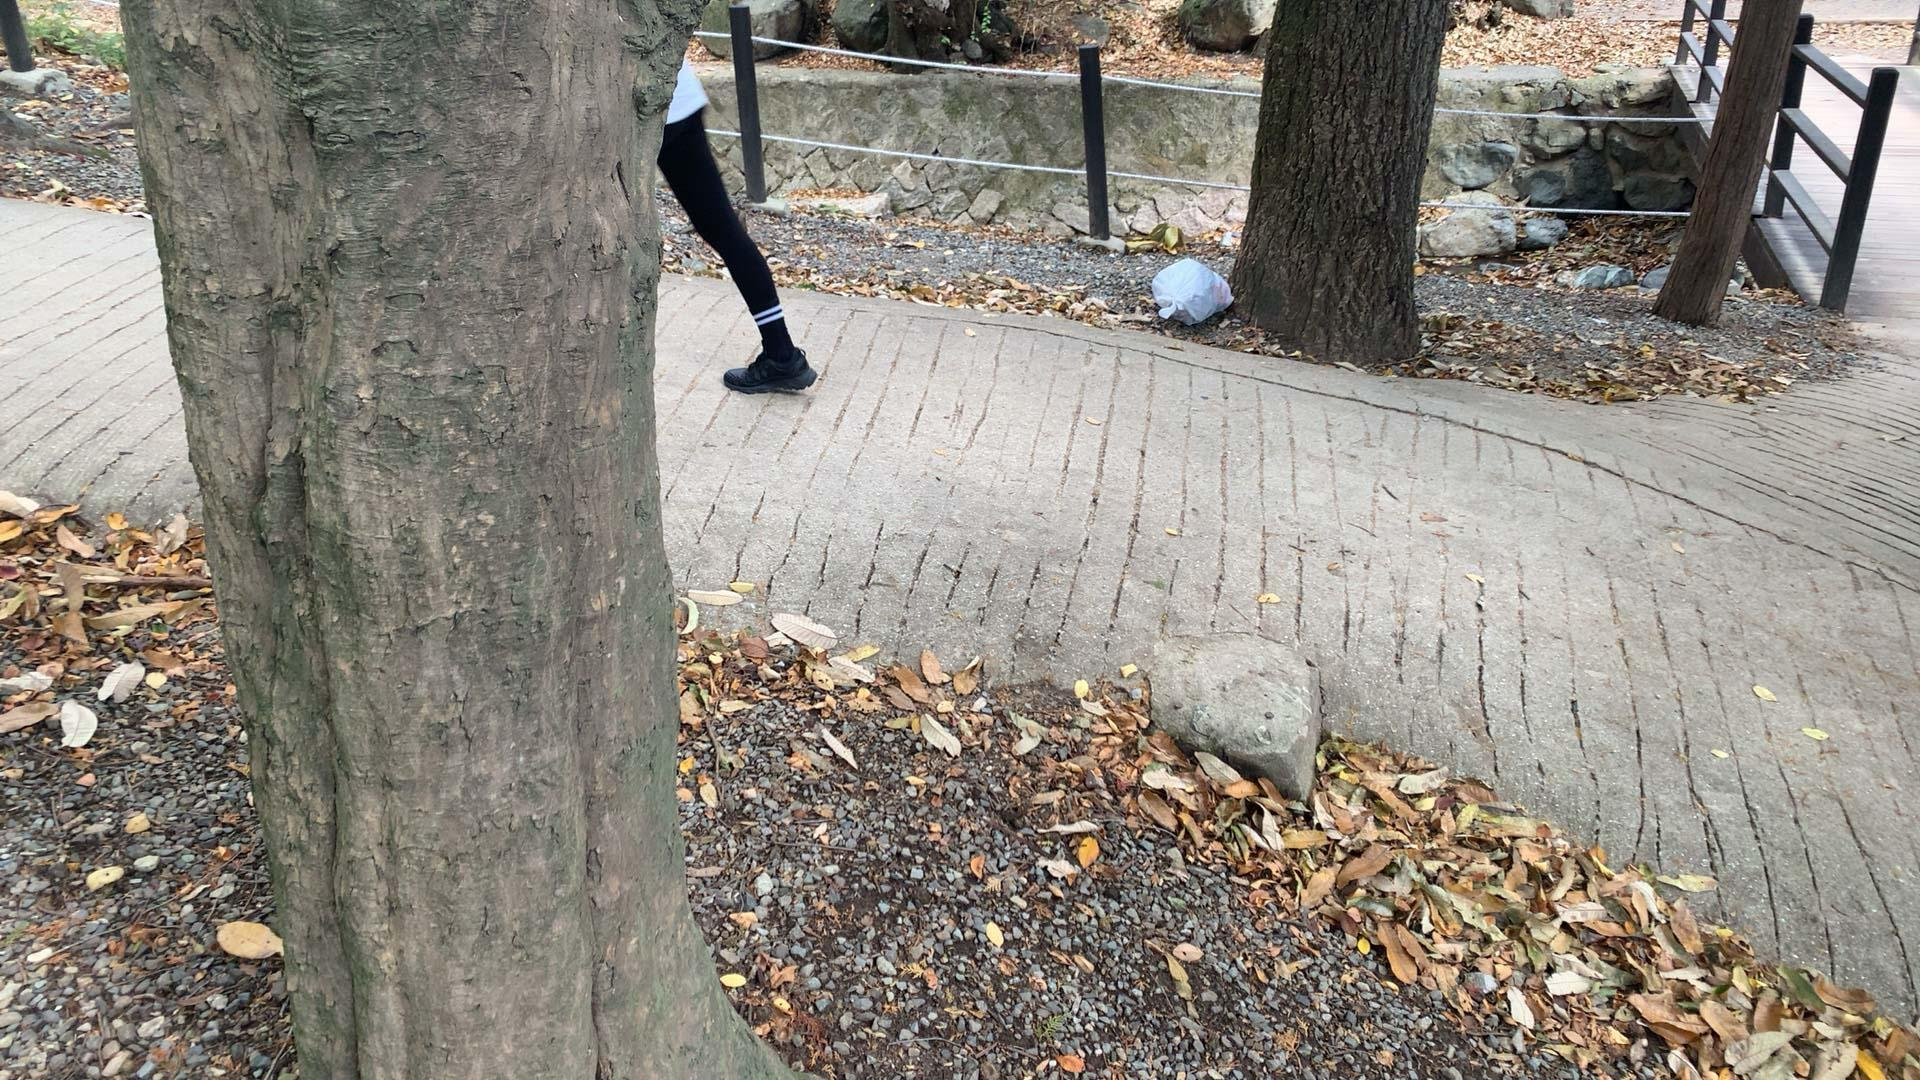white_bag: (1145, 255, 1240, 327)
